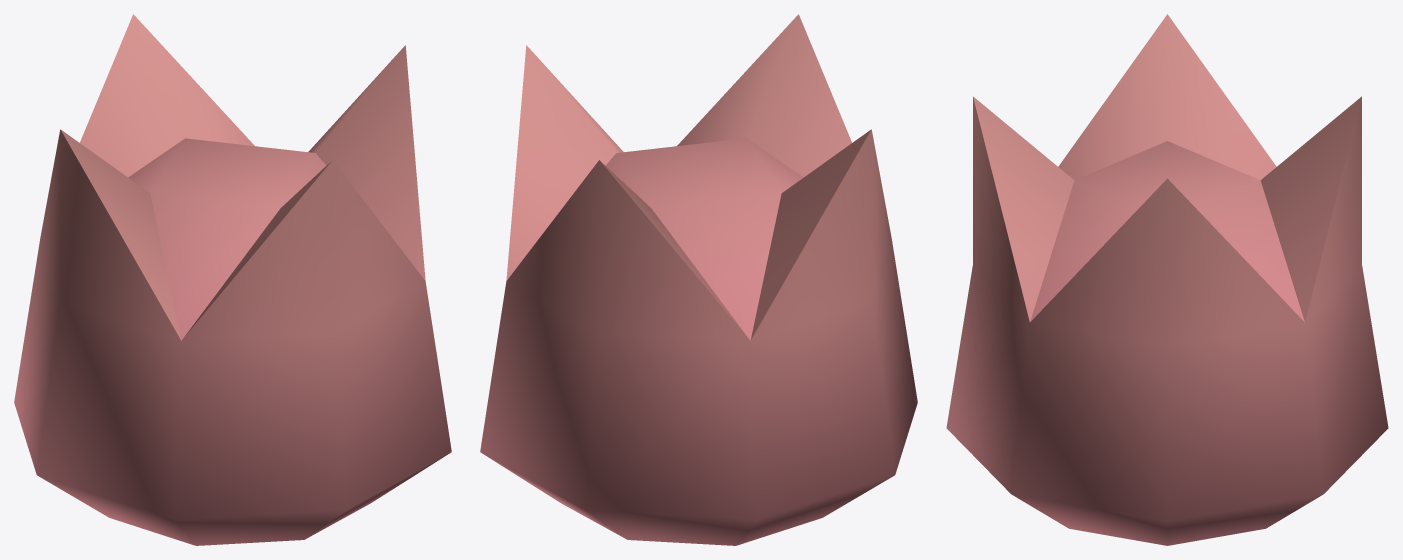
The model's file is organic-flower-d.glb.
The picture shows the model from 3 angles, left to right: view 1: azimuth 30°, elevation 25°; view 2: azimuth 150°, elevation 25°; view 3: azimuth 270°, elevation 25°; orthographic projection. The views are drawn at different scales.
Visible parts, largest first — view 1: organic-flower-d; view 2: organic-flower-d; view 3: organic-flower-d.
Boxes of the visible parts, x1,y1,x2,y2 form: organic-flower-d: [14, 14, 451, 545]; organic-flower-d: [480, 14, 917, 545]; organic-flower-d: [946, 14, 1388, 545].
Size of the model in its own units: 0.095 by 0.0927 by 0.095.
